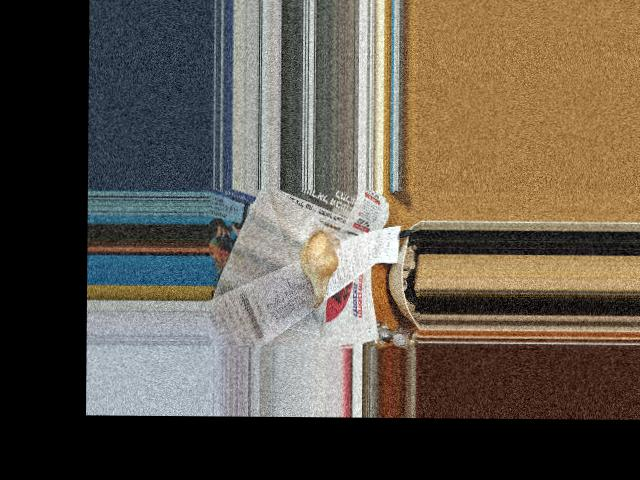onion: (301, 231, 335, 287)
